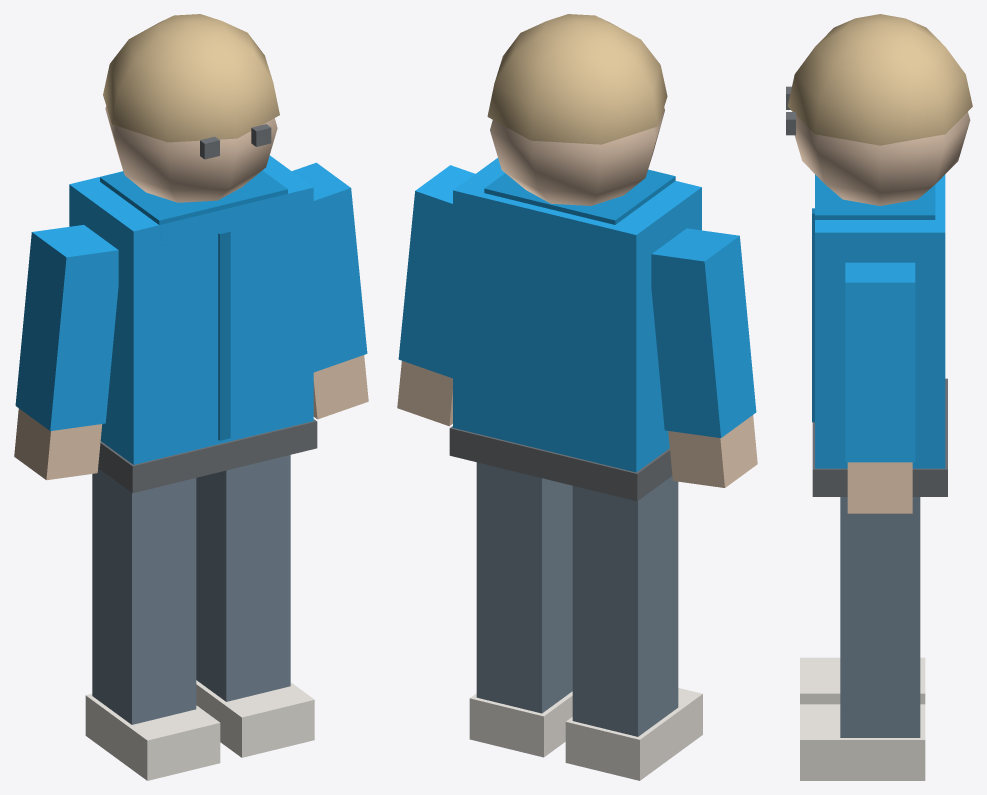
Rendered from actor_2.glb.
The picture shows the model from 3 angles, left to right: view 1: azimuth 30°, elevation 25°; view 2: azimuth 150°, elevation 25°; view 3: azimuth 270°, elevation 25°; orthographic projection.
Parts seen in each view (by area): view 1: pedestrian_2:cffffff, leg_0:cffffff, leg_1:cffffff, arm_0:cffffff, arm_1:cffffff; view 2: pedestrian_2:cffffff, leg_0:cffffff, leg_1:cffffff, arm_0:cffffff, arm_1:cffffff; view 3: pedestrian_2:cffffff, leg_1:cffffff, arm_1:cffffff, leg_0:cffffff.
Boxes of the visible parts, <box> form: pedestrian_2:cffffff: <box>69,14,317,493</box>; leg_0:cffffff: <box>85,468,220,780</box>; leg_1:cffffff: <box>196,455,314,757</box>; arm_0:cffffff: <box>14,225,118,480</box>; arm_1:cffffff: <box>292,162,368,419</box>; pedestrian_2:cffffff: <box>449,14,701,501</box>; leg_0:cffffff: <box>565,476,702,780</box>; leg_1:cffffff: <box>469,462,572,757</box>; arm_0:cffffff: <box>651,228,757,487</box>; arm_1:cffffff: <box>397,165,474,426</box>; pedestrian_2:cffffff: <box>786,14,972,496</box>; leg_1:cffffff: <box>800,497,925,780</box>; arm_1:cffffff: <box>845,262,915,513</box>; leg_0:cffffff: <box>800,657,925,704</box>.
Size of the model in its own units: 0.7512 by 1.58 by 0.373.
